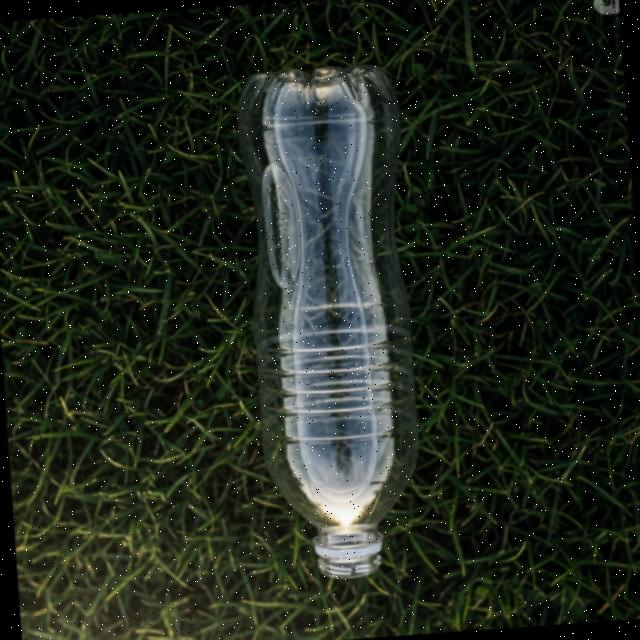plastic: (236, 55, 434, 584)
